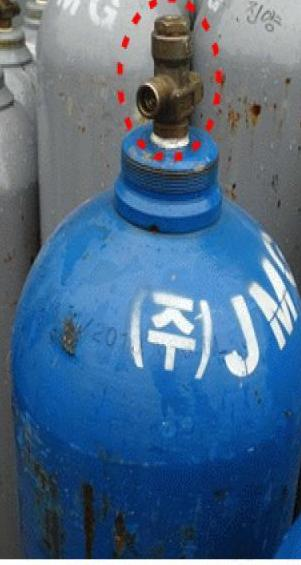cylinder: (1, 1, 301, 565)
